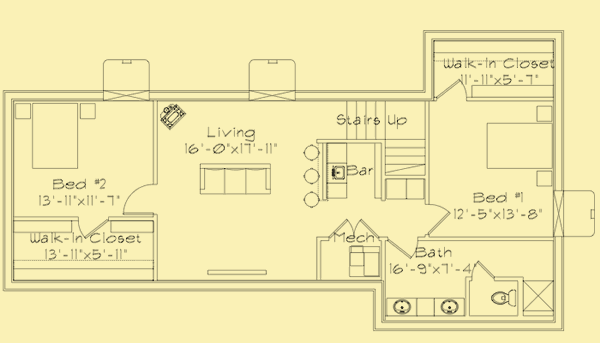bed: (14, 101, 101, 173), (484, 104, 553, 188)
door: (120, 181, 160, 218), (325, 216, 380, 241), (425, 201, 452, 239), (434, 78, 470, 105), (75, 213, 110, 240), (387, 235, 420, 260), (468, 257, 496, 281)
large sink: (487, 287, 518, 310)
large sofa: (197, 161, 274, 199)
small sink: (430, 296, 465, 319), (384, 297, 418, 318)
stairs: (343, 99, 430, 178)
windows: (244, 88, 300, 105), (101, 87, 153, 105), (551, 187, 567, 240)
